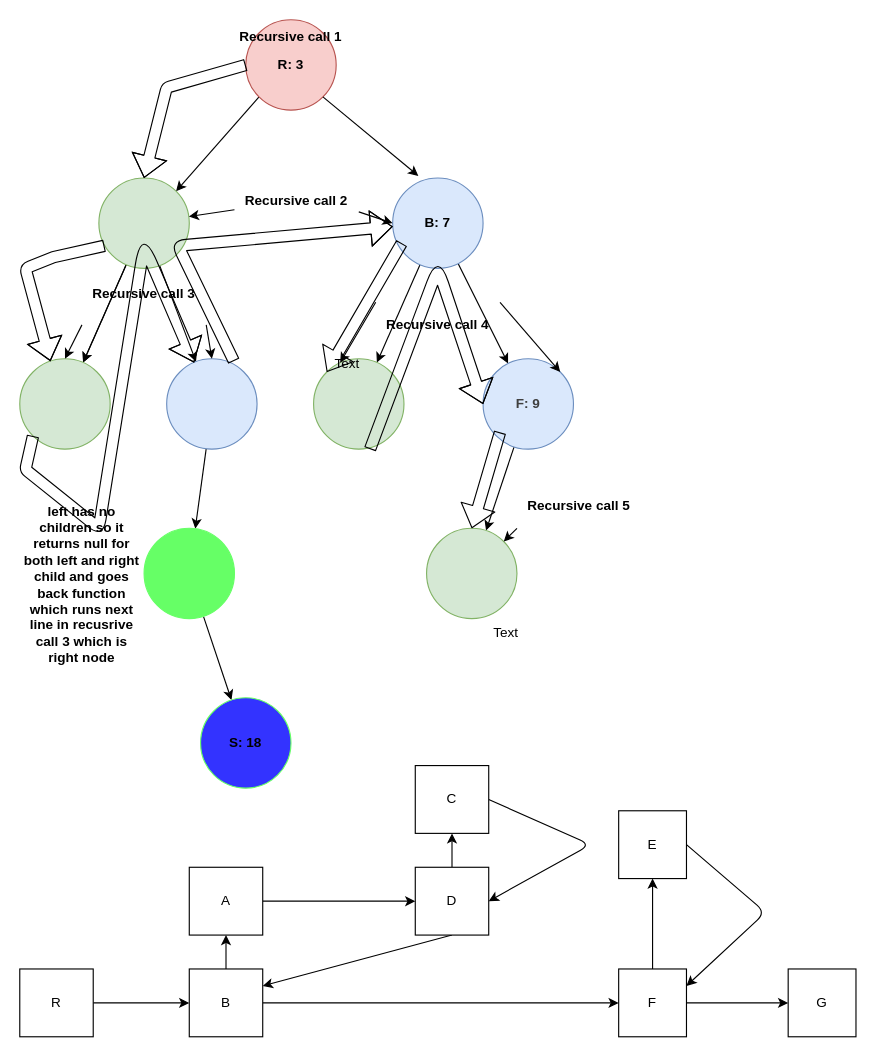
The diagram is 876 pixels wide and 1057 high, and some of its shapes have lost their labels. The shapes that lost their labels are listed below. From the top down, each one's box as (x1, y1, x2, y2) in pixels, then its label:
(98, 177, 189, 268): A: 4
(19, 358, 110, 449): C: 10
(166, 358, 257, 449): D: 6
(312, 358, 404, 449): 8: E
(143, 527, 234, 619): K: 10
(425, 527, 517, 619): G: 11
